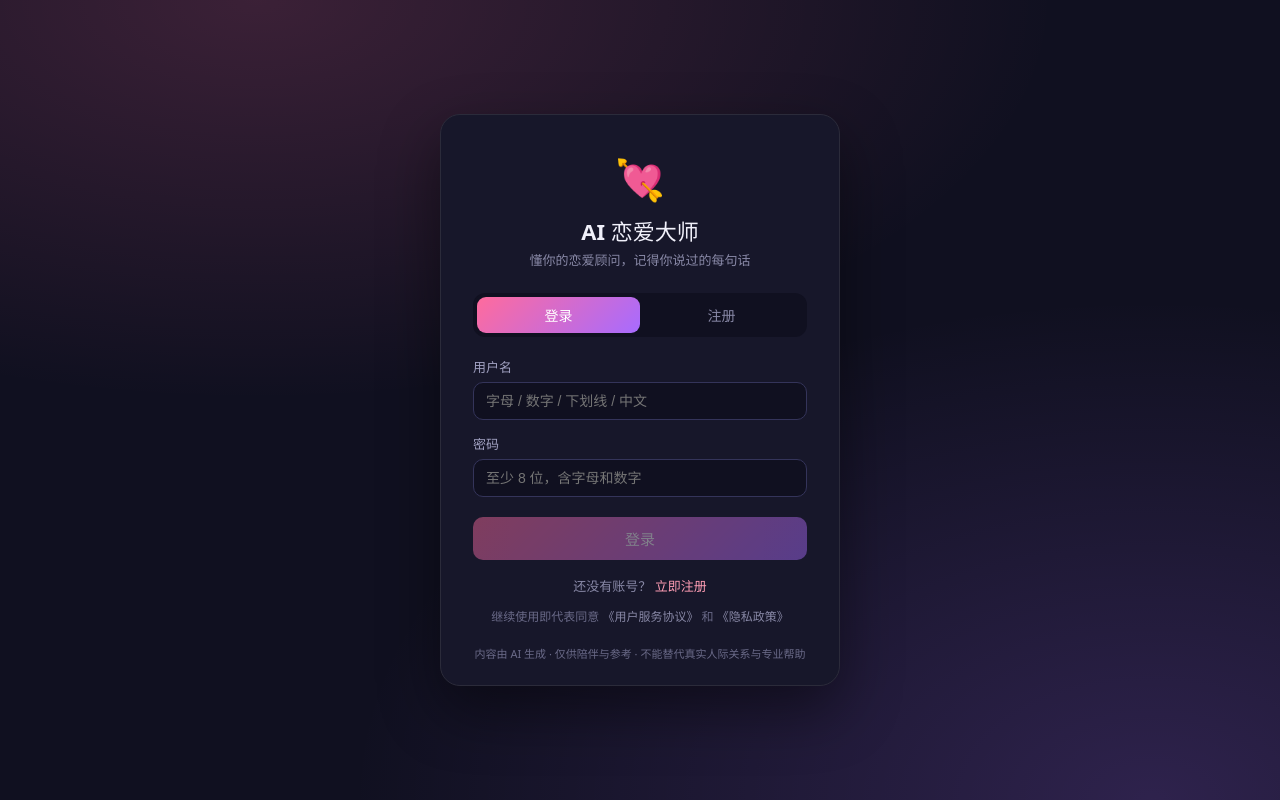
Test case: LoginView › 登录失败时展示后端错误文案
In the field labelled "用户名": {"x": 640, "y": 401} [473,382,807,420], type "alice"
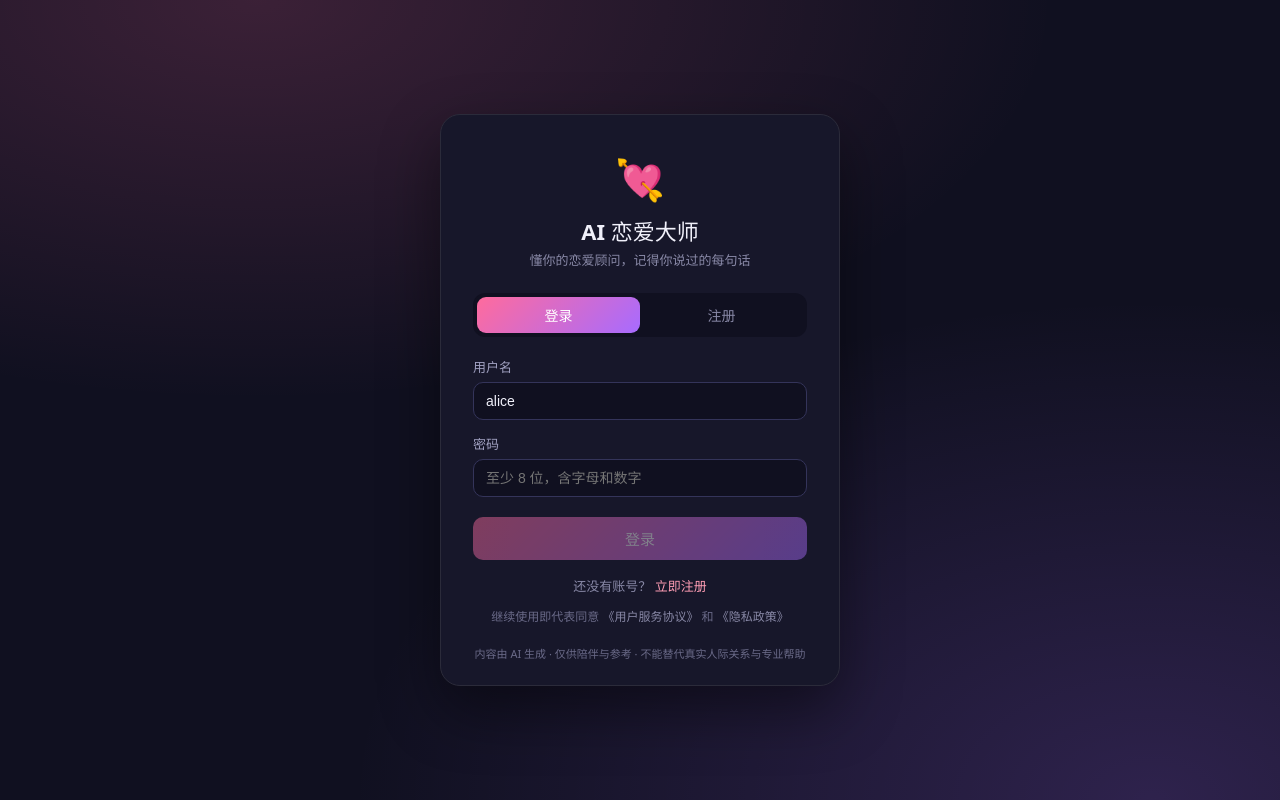
In the password field labelled "密码": {"x": 640, "y": 478} [473,459,807,497], type "wrong"
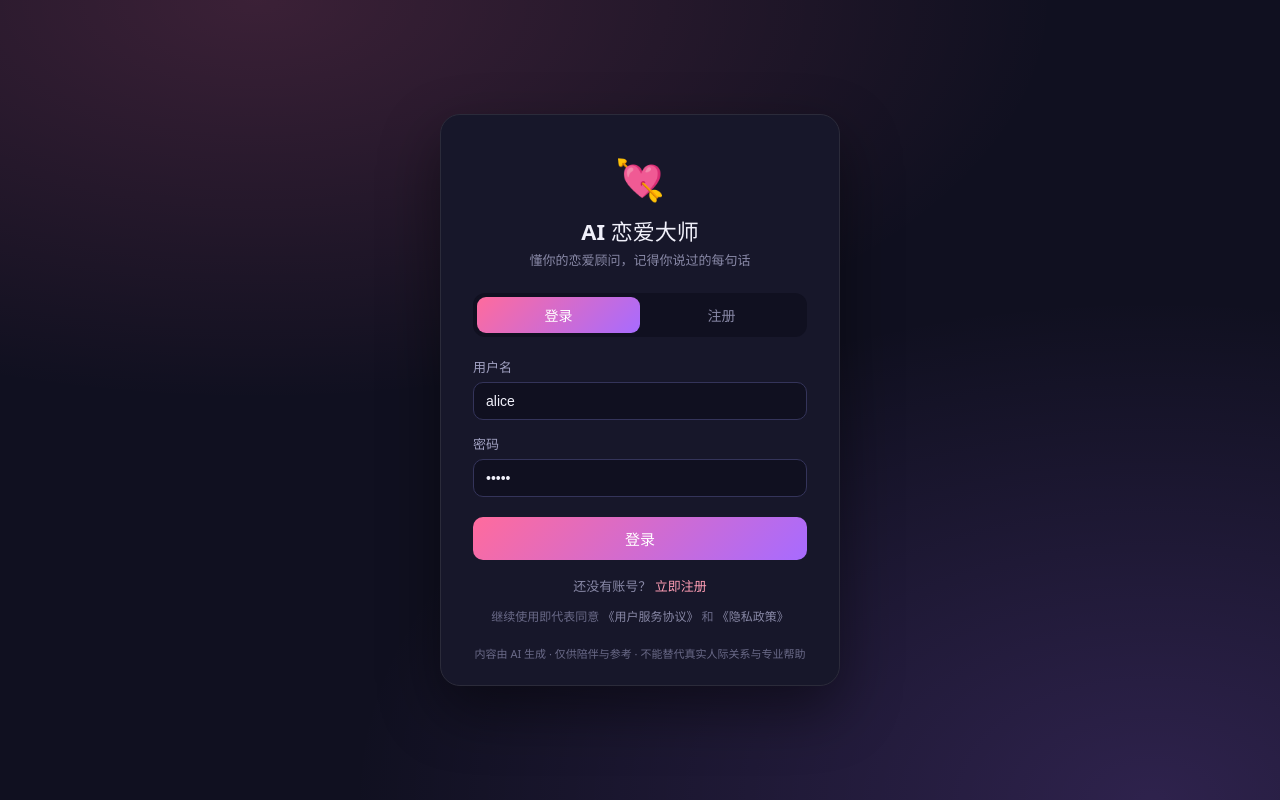
Submit the form, box [473,357,807,560]
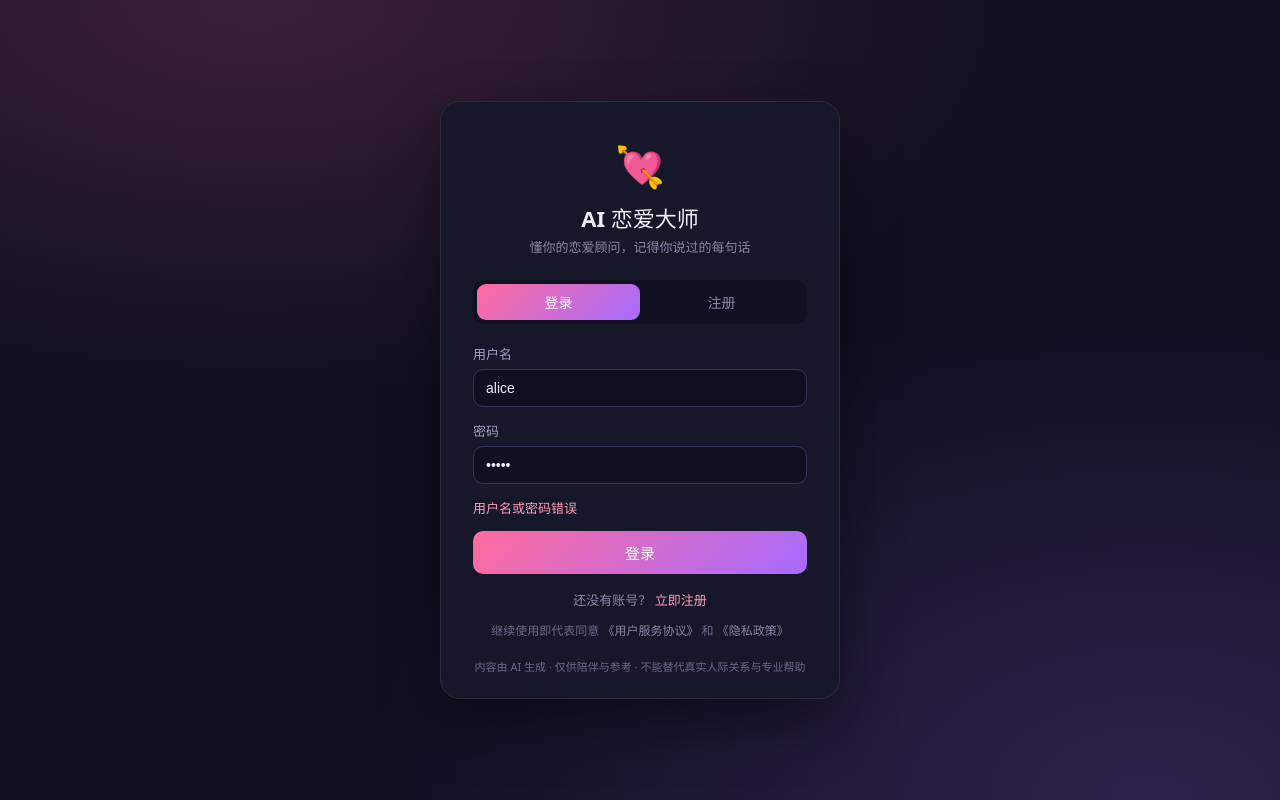
Result: the text with class "error" reads "用户名或密码错误" at [473,499,577,517]
